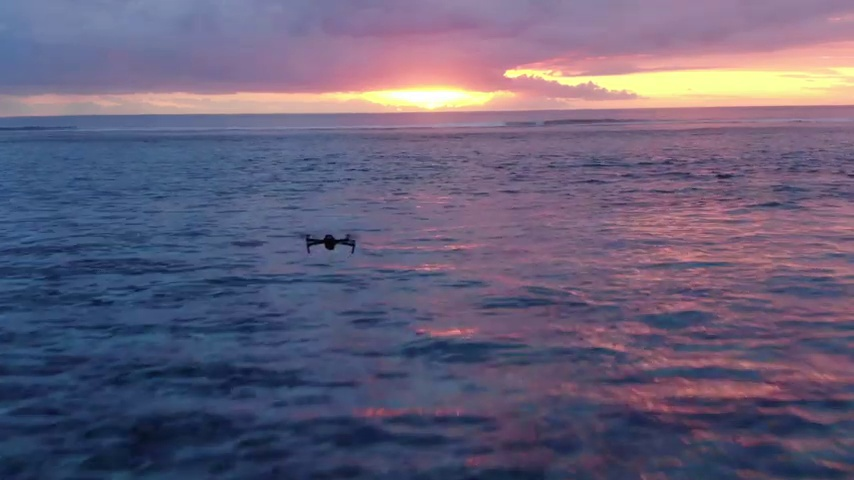drone: (304, 232, 355, 254)
